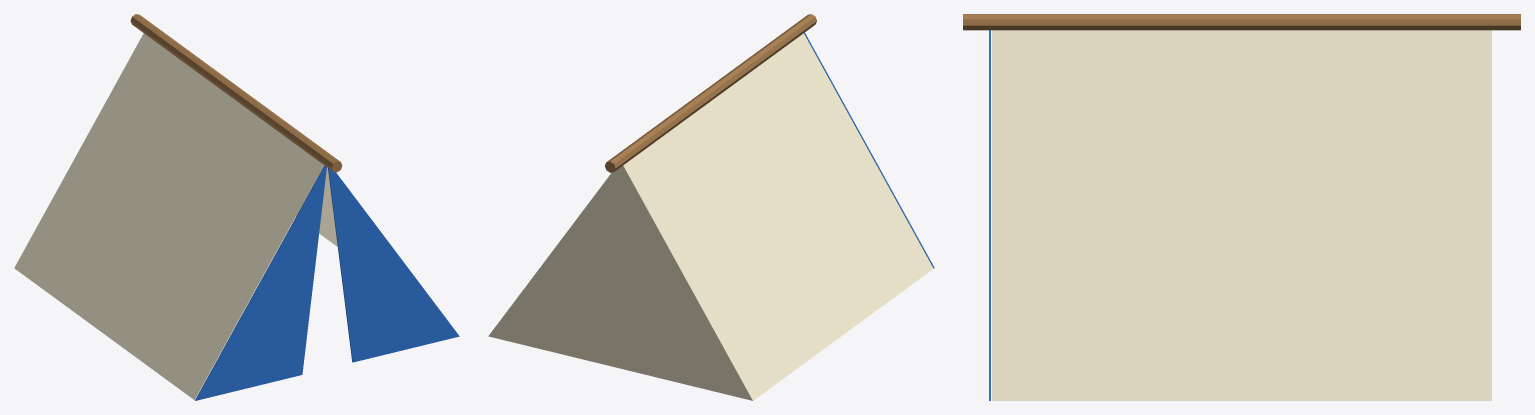
File: prop_tent_blue.glb
3 renders of one model, left to right at view 1: azimuth 30°, elevation 25°; view 2: azimuth 150°, elevation 25°; view 3: azimuth 270°, elevation 25°, orthographic. The views are drawn at different scales.
Parts seen in each view (by area): view 1: prop_tent_blue; view 2: prop_tent_blue; view 3: prop_tent_blue.
Boxes of the visible parts, box(x1,y1,x2,y2) form: prop_tent_blue: box(14, 14, 459, 400); prop_tent_blue: box(488, 14, 934, 400); prop_tent_blue: box(963, 14, 1520, 400).
Bounding box in the file's own units: 2.2 × 1.71 × 2.9.
